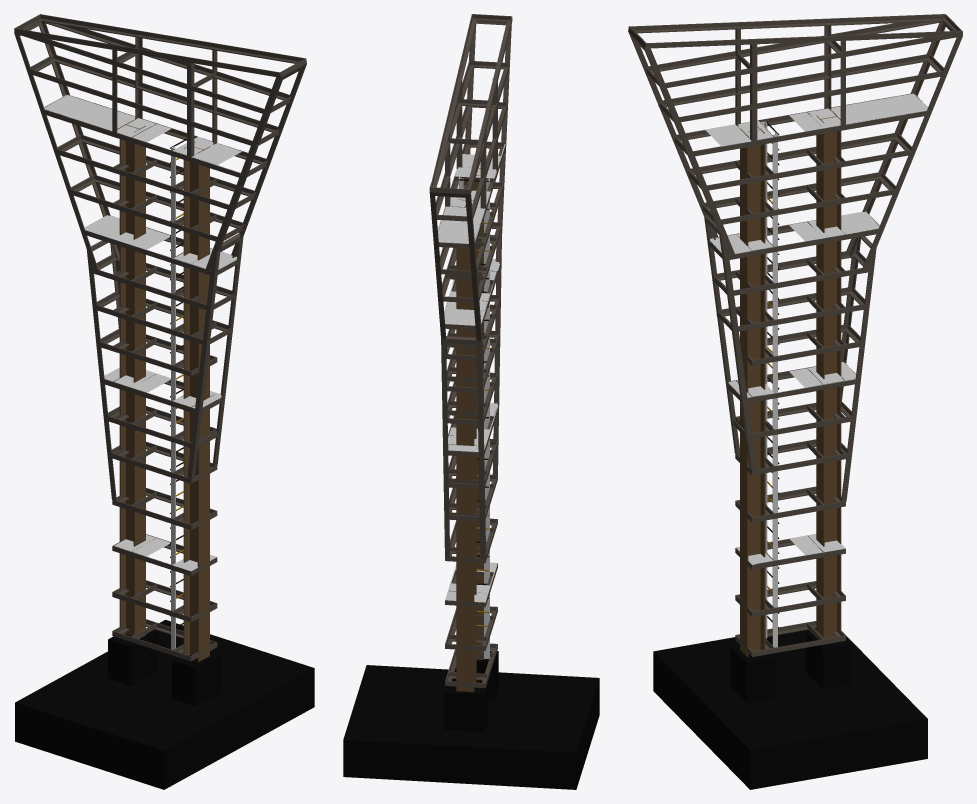
The picture shows the model from 3 angles, left to right: view 1: azimuth 30°, elevation 25°; view 2: azimuth 150°, elevation 25°; view 3: azimuth 270°, elevation 25°; orthographic projection. The views are drawn at different scales.
Parts seen in each view (by area): view 1: mesh1_mesh1-geometry, mesh191.002_mesh191-geometry, mesh191.001_mesh191-geometry, mesh105_mesh105-geometry, mesh109_mesh109-geometry, mesh185_mesh185-geometry, mesh107_mesh107-geometry, mesh111_mesh111-geometry, mesh3_mesh3-geometry, mesh193.002_mesh193-geometry, mesh4_mesh4-geometry, mesh87_mesh87-geometry (+29 smaller); view 2: mesh1_mesh1-geometry, mesh191.001_mesh191-geometry, mesh113_mesh113-geometry, mesh105_mesh105-geometry, mesh111_mesh111-geometry, mesh185_mesh185-geometry, mesh4_mesh4-geometry, mesh107_mesh107-geometry, mesh193.002_mesh193-geometry, mesh188_mesh188-geometry, mesh109_mesh109-geometry, mesh191.002_mesh191-geometry (+12 smaller); view 3: mesh1_mesh1-geometry, mesh191.002_mesh191-geometry, mesh191.001_mesh191-geometry, mesh105_mesh105-geometry, mesh185_mesh185-geometry, mesh109_mesh109-geometry, mesh111_mesh111-geometry, mesh193.001_mesh193-geometry, mesh107_mesh107-geometry, mesh87_mesh87-geometry, mesh113_mesh113-geometry, mesh3_mesh3-geometry (+28 smaller).
Boxes of the visible parts, x1=… form: mesh1_mesh1-geometry: x1=15, y1=620, x2=314, y2=789; mesh191.002_mesh191-geometry: x1=183, y1=142, x2=209, y2=662; mesh191.001_mesh191-geometry: x1=119, y1=121, x2=145, y2=638; mesh105_mesh105-geometry: x1=15, y1=14, x2=306, y2=77; mesh109_mesh109-geometry: x1=187, y1=233, x2=243, y2=478; mesh185_mesh185-geometry: x1=44, y1=94, x2=241, y2=173; mesh107_mesh107-geometry: x1=205, y1=63, x2=306, y2=273; mesh111_mesh111-geometry: x1=14, y1=19, x2=119, y2=274; mesh3_mesh3-geometry: x1=172, y1=650, x2=221, y2=706; mesh193.002_mesh193-geometry: x1=171, y1=146, x2=175, y2=649; mesh4_mesh4-geometry: x1=108, y1=631, x2=157, y2=685; mesh87_mesh87-geometry: x1=112, y1=82, x2=281, y2=146; mesh1_mesh1-geometry: x1=343, y1=665, x2=599, y2=789; mesh191.001_mesh191-geometry: x1=456, y1=199, x2=476, y2=692; mesh113_mesh113-geometry: x1=441, y1=336, x2=486, y2=558; mesh105_mesh105-geometry: x1=430, y1=14, x2=512, y2=193; mesh111_mesh111-geometry: x1=429, y1=192, x2=483, y2=354; mesh185_mesh185-geometry: x1=438, y1=144, x2=505, y2=243; mesh4_mesh4-geometry: x1=444, y1=682, x2=488, y2=731; mesh107_mesh107-geometry: x1=464, y1=18, x2=511, y2=265; mesh193.002_mesh193-geometry: x1=484, y1=178, x2=489, y2=658; mesh188_mesh188-geometry: x1=444, y1=259, x2=499, y2=325; mesh109_mesh109-geometry: x1=490, y1=234, x2=501, y2=476; mesh191.002_mesh191-geometry: x1=466, y1=168, x2=484, y2=659; mesh1_mesh1-geometry: x1=653, y1=628, x2=927, y2=789; mesh191.002_mesh191-geometry: x1=740, y1=126, x2=765, y2=657; mesh191.001_mesh191-geometry: x1=816, y1=113, x2=841, y2=638; mesh105_mesh105-geometry: x1=628, y1=14, x2=961, y2=48; mesh185_mesh185-geometry: x1=676, y1=93, x2=927, y2=146; mesh109_mesh109-geometry: x1=704, y1=215, x2=756, y2=470; mesh111_mesh111-geometry: x1=845, y1=18, x2=962, y2=273; mesh193.001_mesh193-geometry: x1=772, y1=132, x2=777, y2=647; mesh107_mesh107-geometry: x1=628, y1=29, x2=735, y2=257; mesh87_mesh87-geometry: x1=658, y1=72, x2=840, y2=123; mesh113_mesh113-geometry: x1=841, y1=236, x2=876, y2=501; mesh3_mesh3-geometry: x1=730, y1=644, x2=774, y2=702.
Size of the model in its own units: 0.337 by 0.867 by 0.3671.
